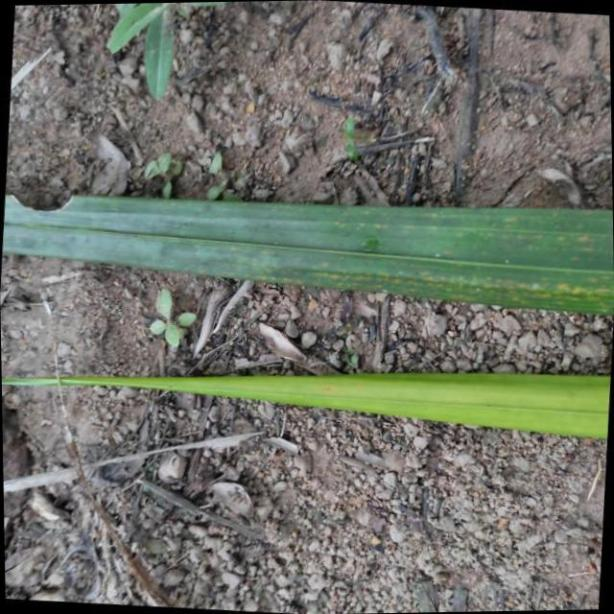nitrogen: (14, 360, 614, 435)
